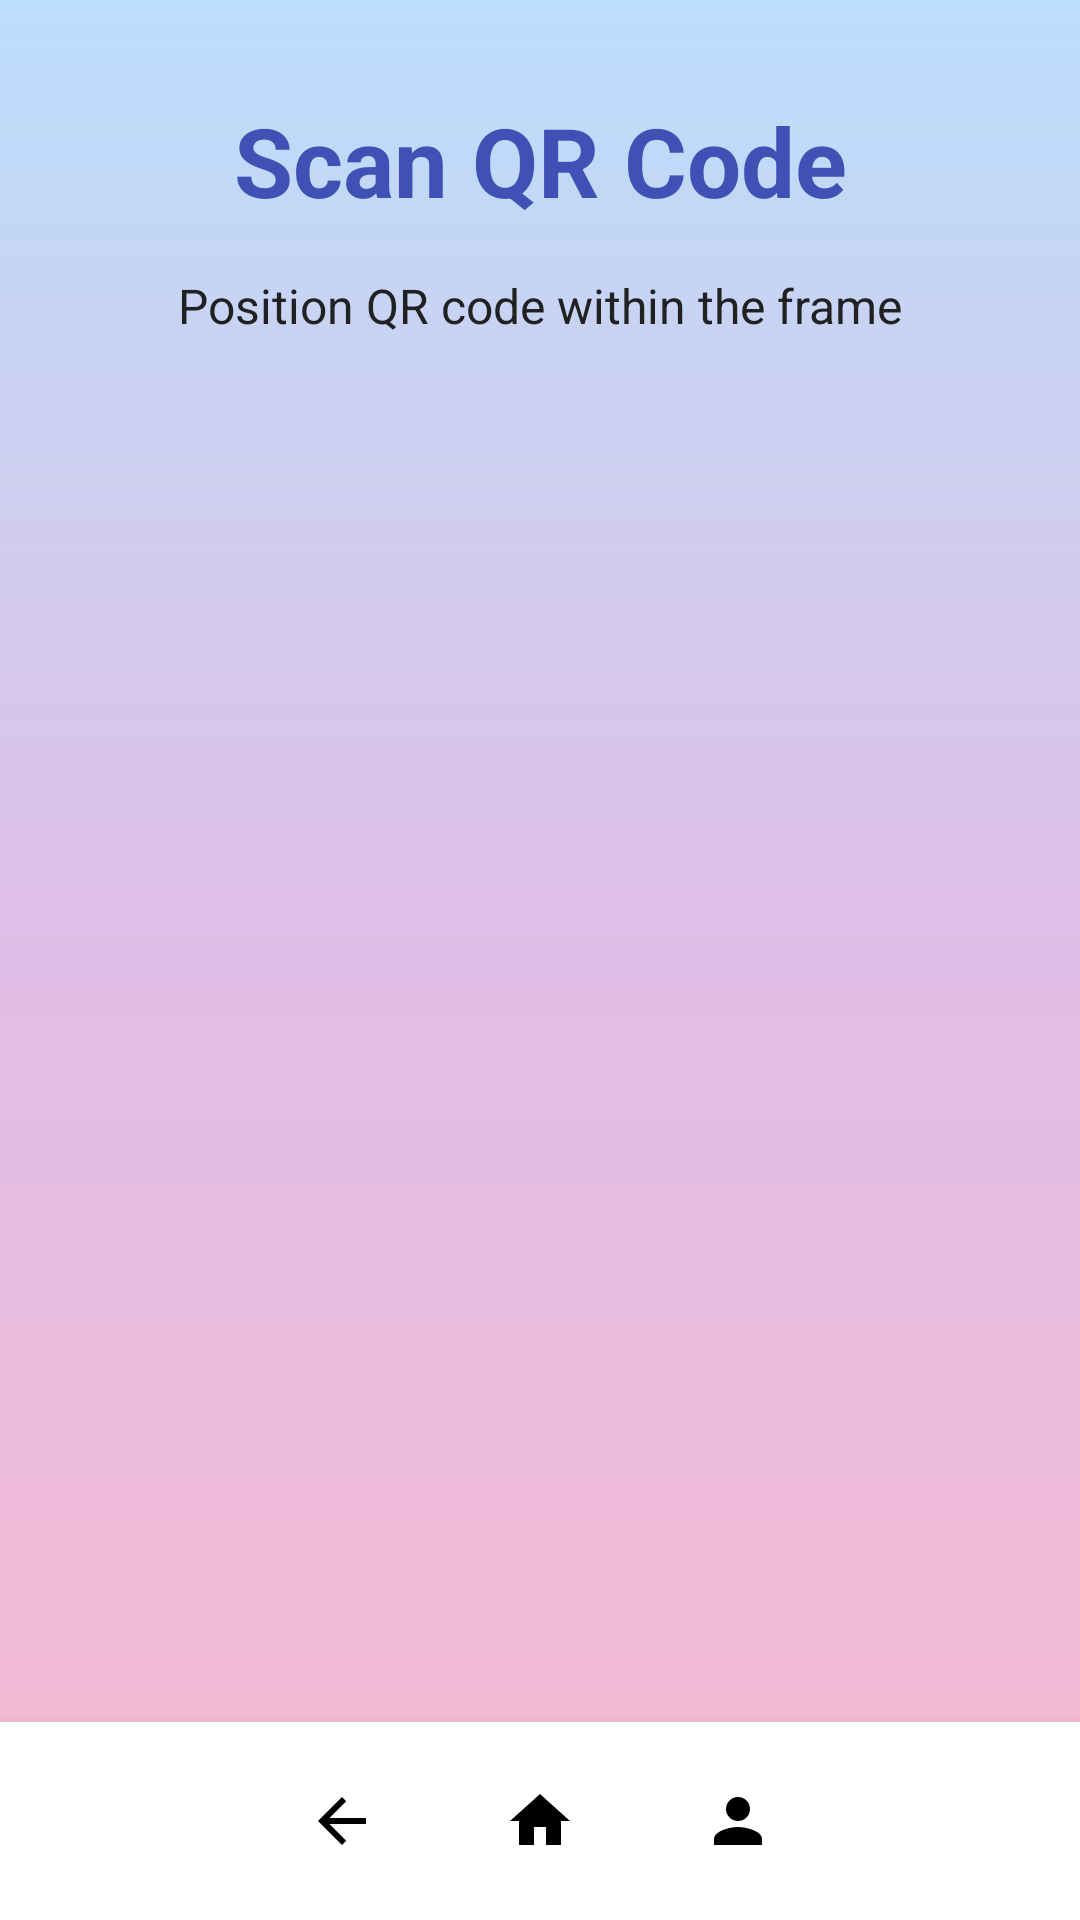

Point at icon controls on the screen. Image size 1080*1920, points as (x=x, y=y).
Back: (x=342, y=1821)
Home: (x=540, y=1819)
Profile: (x=738, y=1821)
